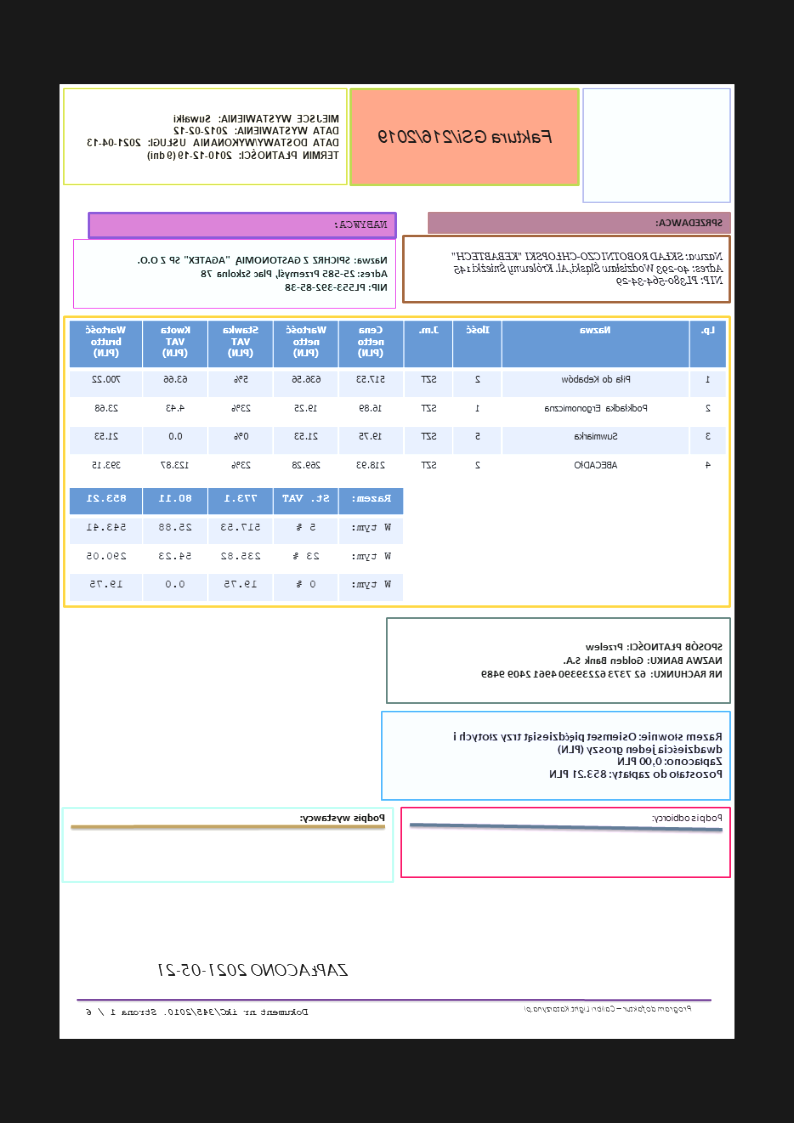Table: (69, 319, 728, 485), (69, 487, 405, 603)
TextBox: (451, 729, 724, 781), (86, 111, 341, 162), (448, 250, 725, 288), (480, 639, 724, 680), (135, 254, 389, 292), (156, 960, 351, 981), (377, 127, 555, 145), (84, 1006, 311, 1018), (521, 1003, 694, 1016), (298, 811, 388, 825), (651, 811, 725, 825), (655, 216, 725, 229), (334, 219, 388, 230)
